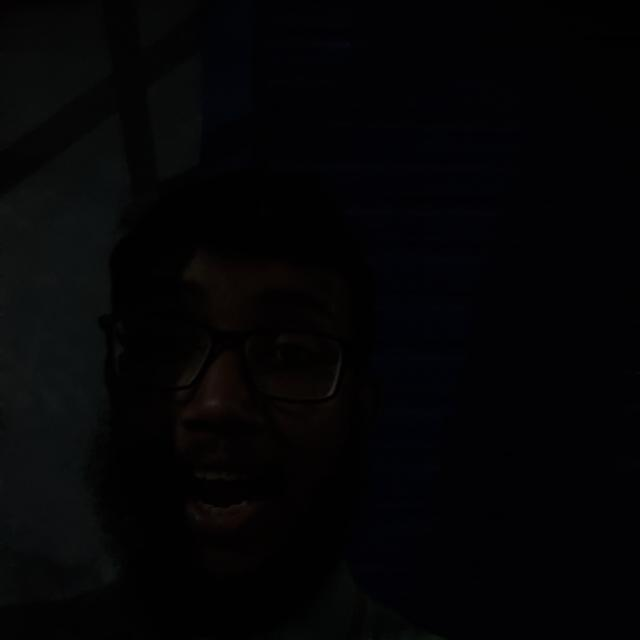Surprised: (62, 166, 414, 613)
